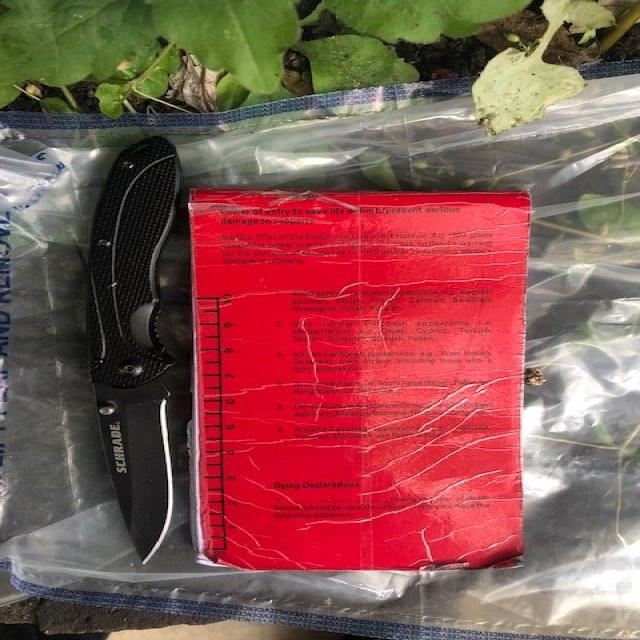Sharp-Object: (91, 136, 187, 568)
